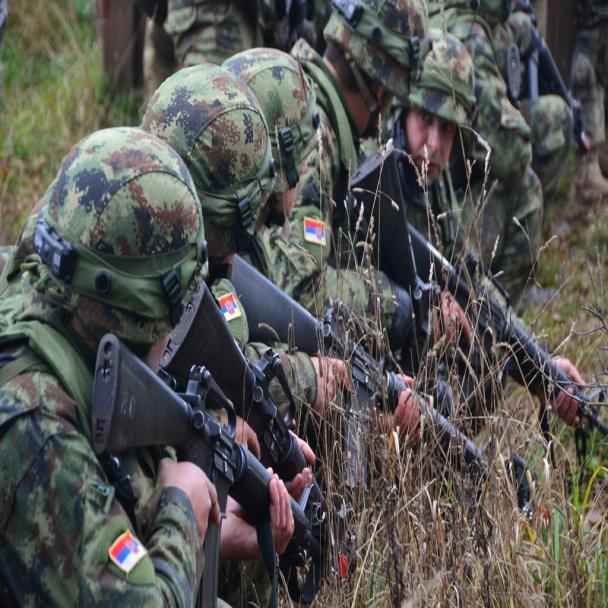Gun: (363, 182, 607, 443), (222, 245, 488, 470), (82, 331, 328, 566), (170, 280, 340, 522)
